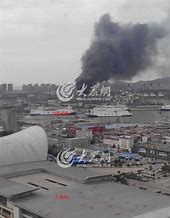smoke: (74, 11, 164, 92)
